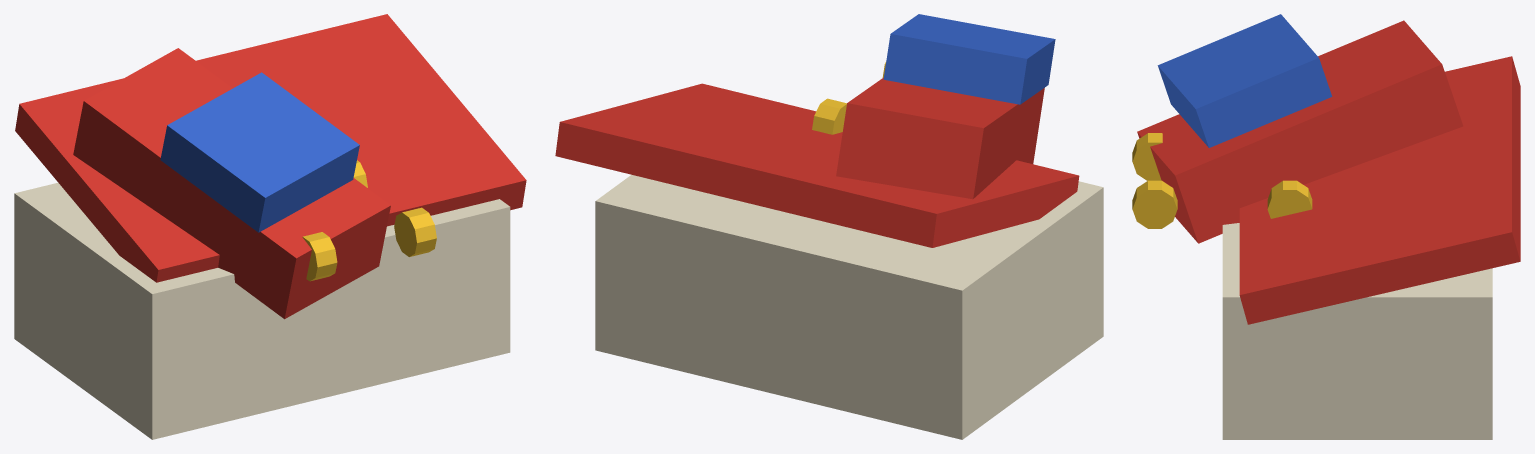
The model's file is bowl_skate_box.glb.
3 views of the same model, side by side, from view 1: azimuth 30°, elevation 25°; view 2: azimuth 150°, elevation 25°; view 3: azimuth 270°, elevation 25° (orthographic). The views are drawn at different scales.
Visible parts, largest first — view 1: box_shoe_box, lid_shoe_box_lid, shoe_shoe_red, shoe_shoe_blue, wheels_skate_wheel; view 2: box_shoe_box, lid_shoe_box_lid, shoe_shoe_red, shoe_shoe_blue, wheels_skate_wheel; view 3: lid_shoe_box_lid, box_shoe_box, shoe_shoe_red, shoe_shoe_blue, wheels_skate_wheel.
Part boxes in pixels (x1,y1,x2,y2): box_shoe_box: [14, 182, 510, 439]; lid_shoe_box_lid: [15, 14, 526, 282]; shoe_shoe_red: [73, 48, 390, 319]; shoe_shoe_blue: [160, 72, 359, 232]; wheels_skate_wheel: [302, 160, 436, 281]; box_shoe_box: [595, 174, 1103, 439]; lid_shoe_box_lid: [555, 83, 1079, 247]; shoe_shoe_red: [836, 77, 1044, 199]; shoe_shoe_blue: [883, 14, 1055, 104]; wheels_skate_wheel: [812, 61, 886, 134]; lid_shoe_box_lid: [1239, 56, 1520, 324]; box_shoe_box: [1222, 223, 1492, 439]; shoe_shoe_red: [1137, 20, 1462, 243]; shoe_shoe_blue: [1157, 14, 1332, 147]; wheels_skate_wheel: [1132, 133, 1312, 228].
Bounding box in the file's own units: 0.385 × 0.2813 × 0.3448.
